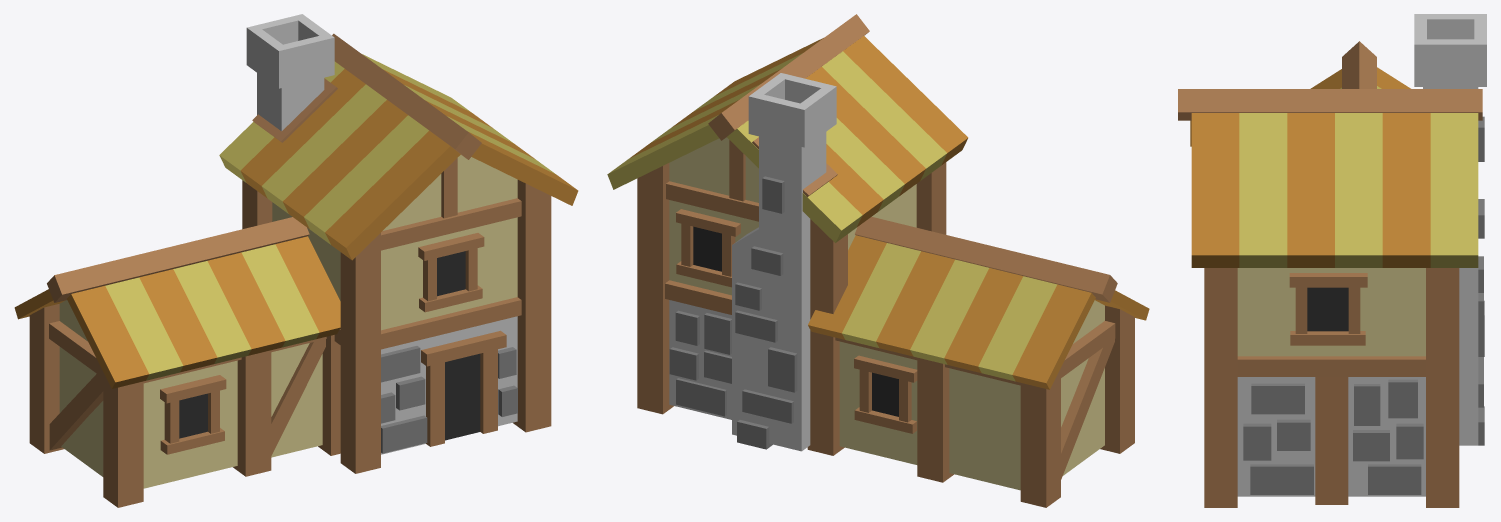
The model's file is PeasantHouseT2lv2.fbx.
3 views of the same model, side by side, from view 1: azimuth 30°, elevation 25°; view 2: azimuth 150°, elevation 25°; view 3: azimuth 270°, elevation 25° (orthographic). The views are drawn at different scales.
Parts seen in each view (by area): view 1: Cube, Cube.157, Cube.164, Cube.003, Cube.002, Cube.049, Cube.166, Cube.001, Cube.006, Cube.159, Cube.004, Cube.081 (+23 smaller); view 2: Cube.037, Cube, Cube.157, Cube.049, Cube.007, Cube.162, Cube.166, Cube.004, Cube.008, Cube.001, Cube.159, Cube.036 (+24 smaller); view 3: Cube.157, Cube, Cube.049, Cube.002, Cube.007, Cube.159, Cube.167, Cube.084, Cube.010, Cube.200, Cube.009, Cube.015 (+12 smaller).
Part boxes in pixels (bbox=[...]): Cube: bbox=[59, 155, 517, 488]; Cube.157: bbox=[219, 54, 578, 260]; Cube.164: bbox=[67, 236, 340, 388]; Cube.003: bbox=[340, 233, 380, 473]; Cube.002: bbox=[513, 180, 551, 432]; Cube.049: bbox=[246, 14, 334, 131]; Cube.166: bbox=[47, 217, 309, 302]; Cube.001: bbox=[103, 372, 143, 507]; Cube.006: bbox=[233, 350, 271, 476]; Cube.159: bbox=[332, 33, 481, 159]; Cube.004: bbox=[29, 304, 63, 453]; Cube.081: bbox=[445, 353, 480, 440]; Cube.037: bbox=[808, 235, 1095, 389]; Cube: bbox=[669, 137, 1104, 490]; Cube.157: bbox=[607, 36, 968, 242]; Cube.049: bbox=[732, 73, 836, 451]; Cube.007: bbox=[637, 163, 673, 414]; Cube.162: bbox=[807, 219, 847, 455]; Cube.166: bbox=[855, 216, 1117, 302]; Cube.004: bbox=[1020, 368, 1060, 507]; Cube.008: bbox=[917, 357, 953, 482]; Cube.001: bbox=[1100, 305, 1134, 453]; Cube.159: bbox=[708, 14, 869, 140]; Cube.036: bbox=[1061, 339, 1114, 479]; Cube.157: bbox=[1190, 113, 1478, 267]; Cube: bbox=[1237, 268, 1425, 496]; Cube.049: bbox=[1414, 14, 1486, 445]; Cube.002: bbox=[1204, 268, 1237, 507]; Cube.007: bbox=[1426, 268, 1459, 507]; Cube.159: bbox=[1178, 89, 1482, 120]; Cube.167: bbox=[1315, 377, 1348, 504]; Cube.084: bbox=[1237, 356, 1425, 376]; Cube.010: bbox=[1250, 464, 1313, 494]; Cube.200: bbox=[1307, 287, 1348, 331]; Cube.009: bbox=[1251, 383, 1304, 414]; Cube.015: bbox=[1368, 464, 1421, 494].
Size of the model in its own units: 1056 by 787 by 558.
